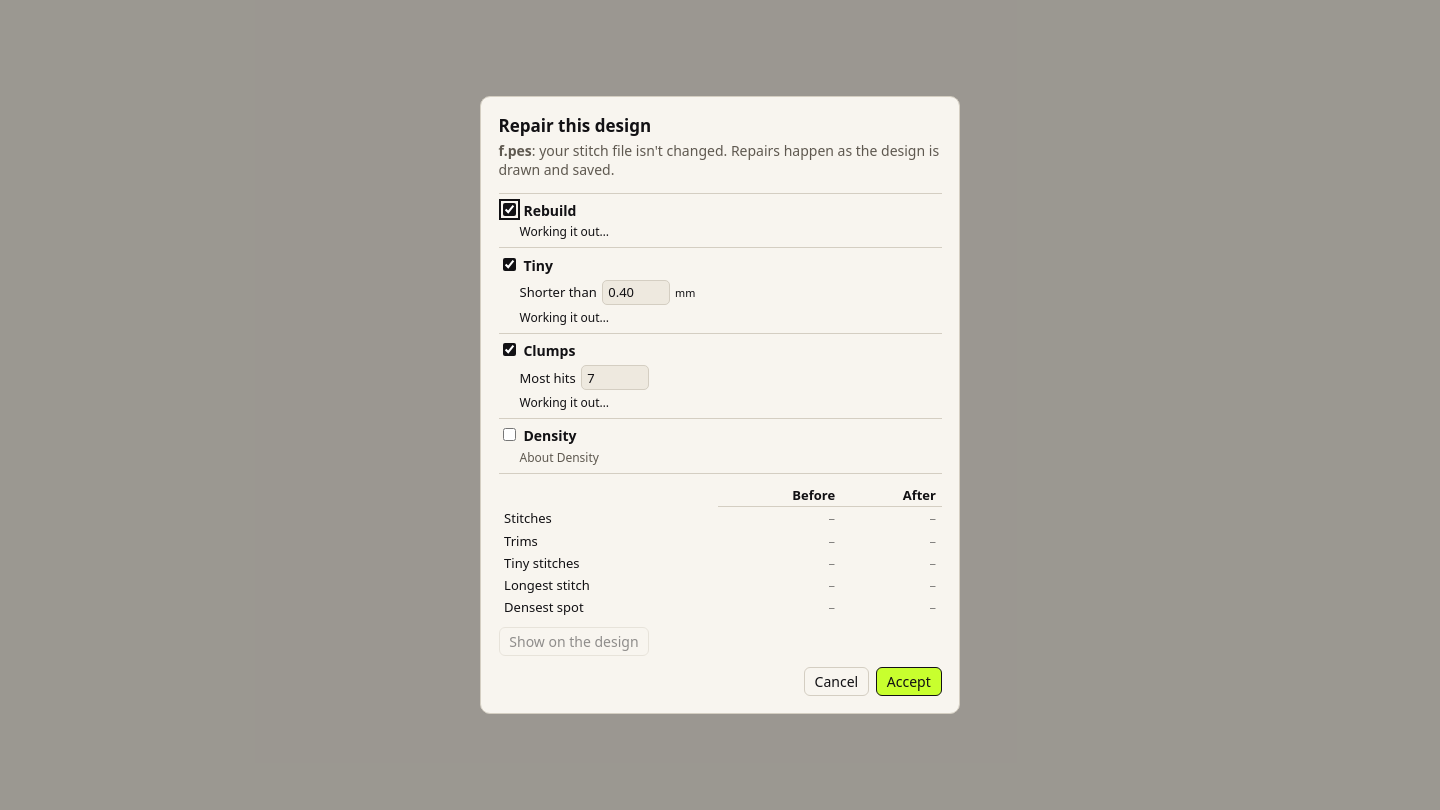
the repair dialog › opens with what's on already ticked, at its setting, and the step Fix it asks for
This screenshot has width=1440, height=810.
expect the number field labelled "Most hits" holds "7": met, box [581,365,649,390]
expect the number field labelled "Shorter than mm" holds "0.40": met, box [602,280,670,305]
Click the checkbox labelled "Tiny": click(509, 264) [502,258,516,271]
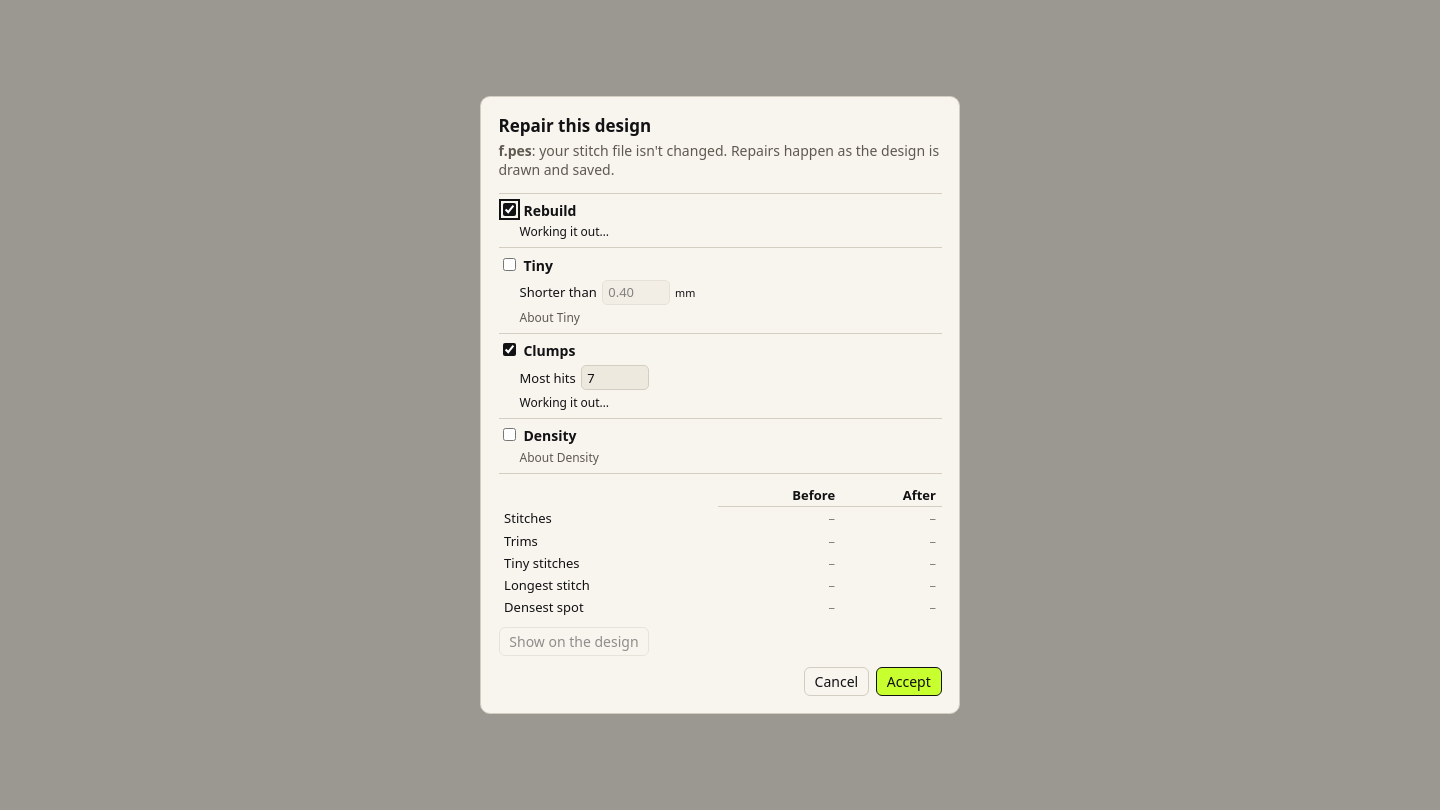
expect the number field labelled "Shorter than mm" is disabled: met, box [602,280,670,305]
expect the list item "Tiny Shorter than mm About Tiny" is shown: met, box [498,247,942,333]
